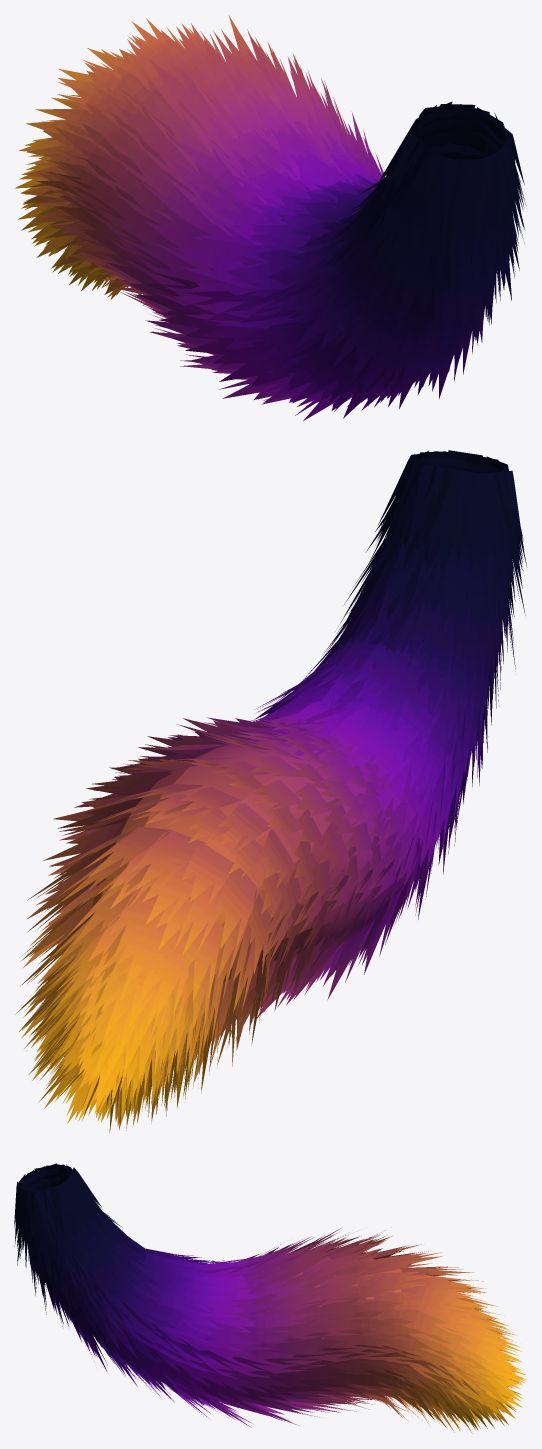
File: fluffytail.glb
3 renders of one model, top to bottom at view 1: azimuth 30°, elevation 25°; view 2: azimuth 150°, elevation 25°; view 3: azimuth 270°, elevation 25°, orthographic. The views are drawn at different scales.
Parts seen in each view (by area): view 1: fluffytail_0; view 2: fluffytail_0; view 3: fluffytail_0.
Part boxes in pixels (<box>): fluffytail_0: <box>14,15,526,420</box>; fluffytail_0: <box>15,450,527,1132</box>; fluffytail_0: <box>14,1163,526,1433</box>.
Bounding box in the file's own units: 0.1976 × 0.3044 × 0.5524.
Materials: 1 (1 with a texture image).
